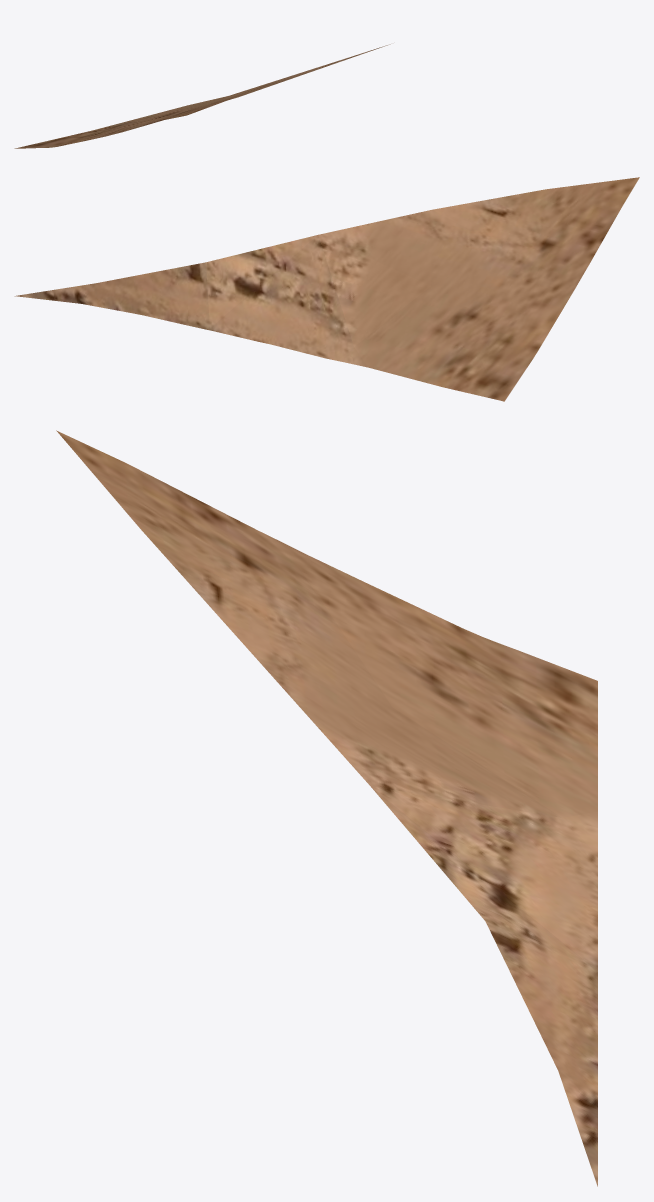
3 views of the same model, one above another, from view 1: azimuth 30°, elevation 25°; view 2: azimuth 150°, elevation 25°; view 3: azimuth 270°, elevation 25° (orthographic). The views are drawn at different scales.
Size of the model in its own units: 1.87 by 0.5084 by 0.896.
Materials: 1 (1 with a texture image).
